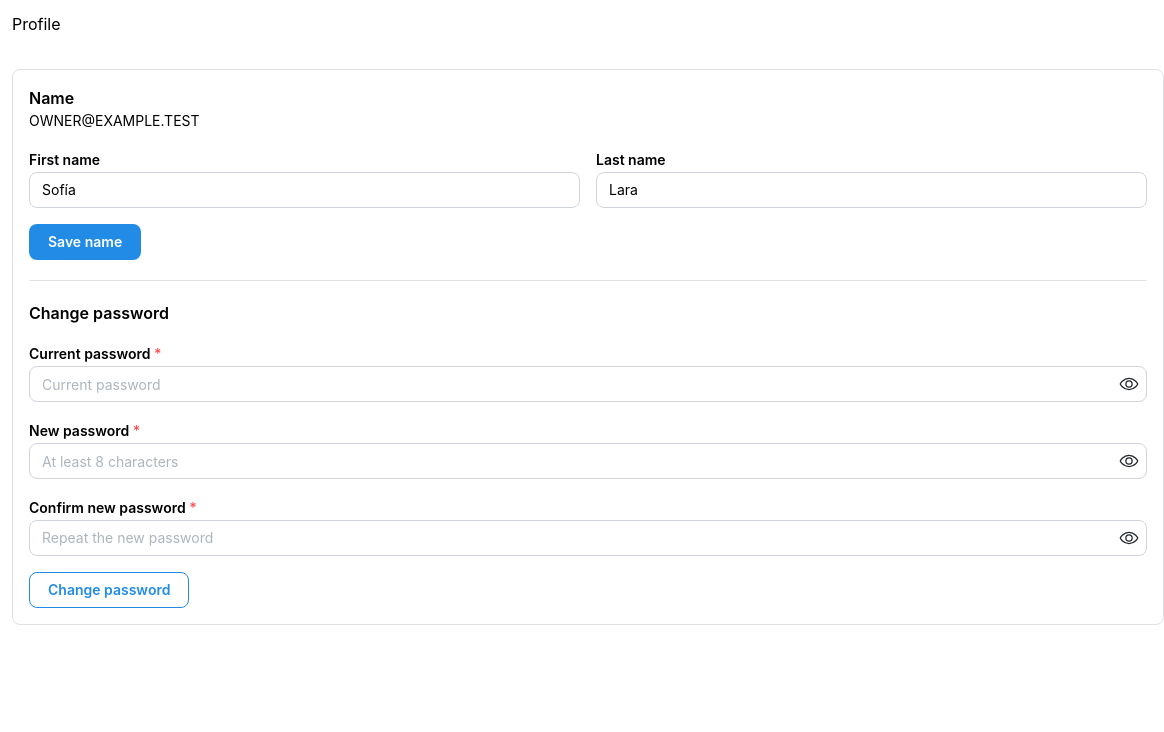
it: the profile page — the name save › sends only the changed, non-blank key, and reports the save
The image size is (1164, 732).
Replace the text in the field labelled "Last name" with "Solar" at (872, 190), box [596,172,1147,208]
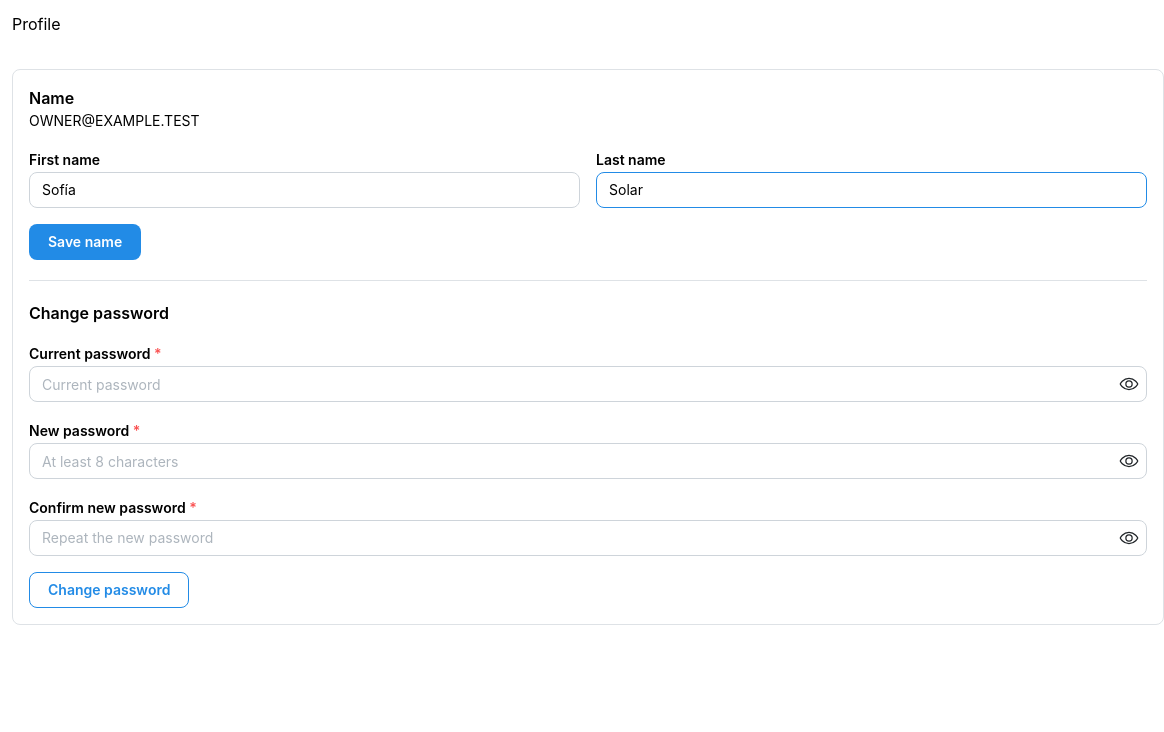
Click the button "Save name" at (85, 242), box [29,224,141,260]
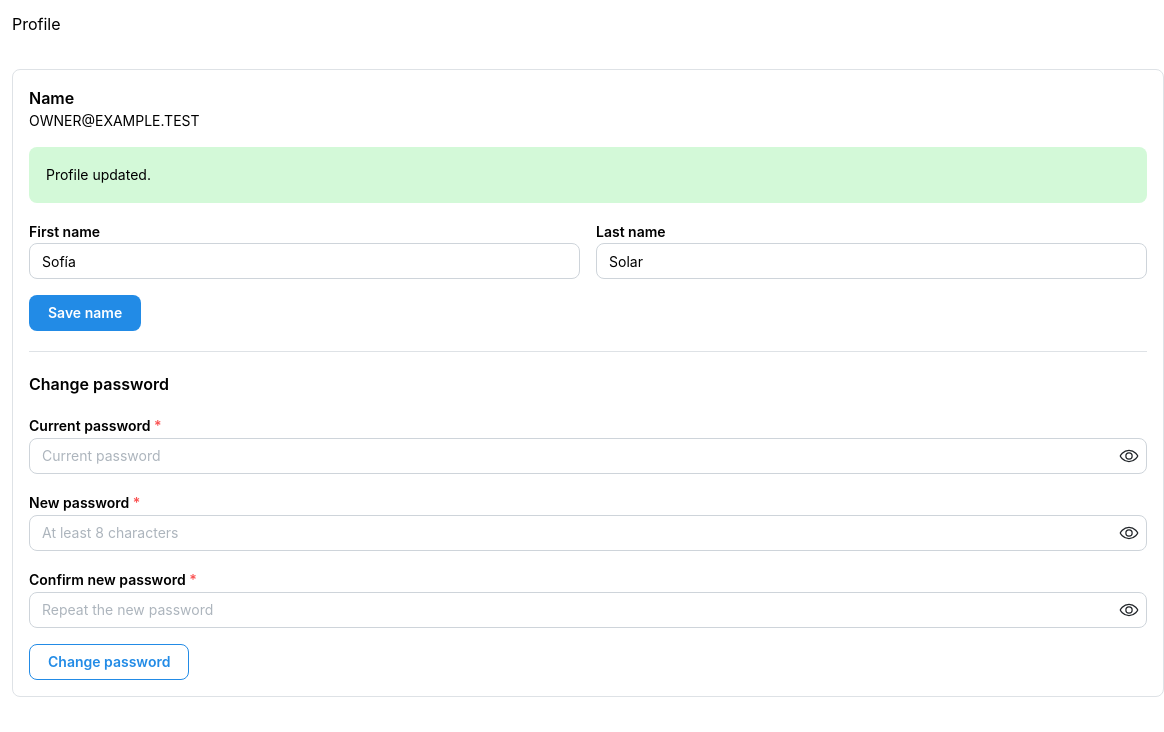
Expected: the text "Profile updated." is shown, [46,166,151,183]
